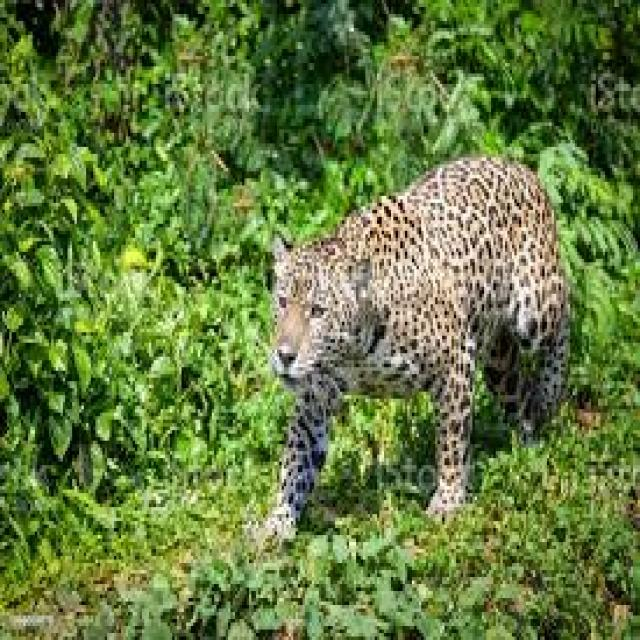Jaguar: (270, 136, 570, 535)
